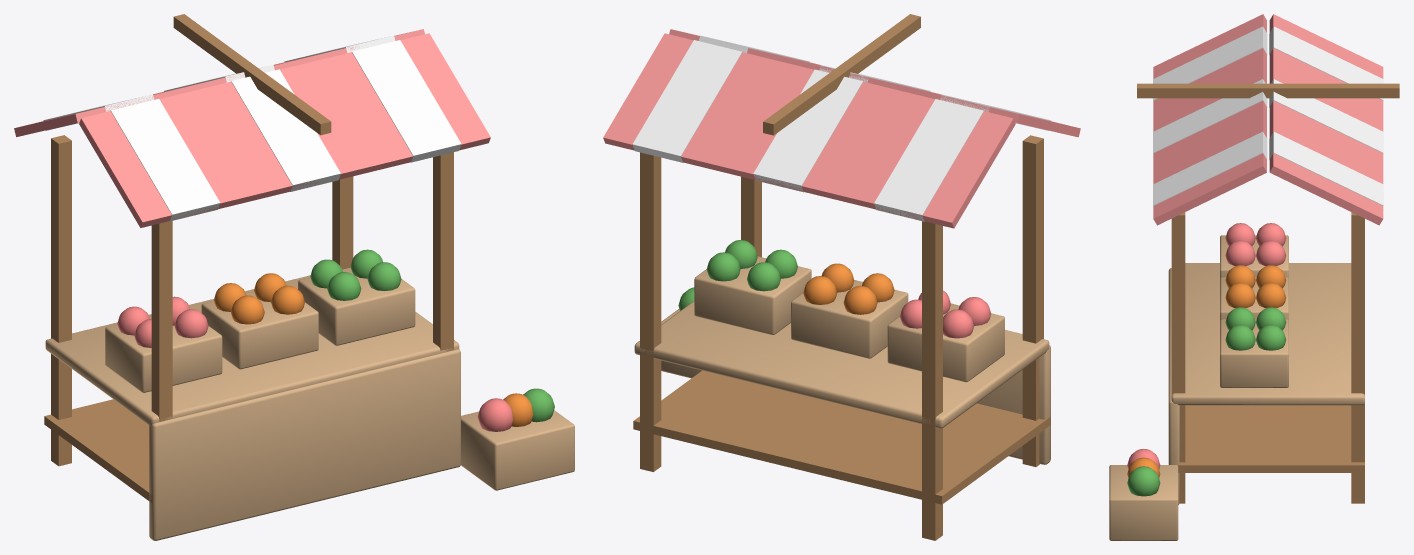
File: market_stall_red.glb
3 renders of one model, left to right at view 1: azimuth 30°, elevation 25°; view 2: azimuth 150°, elevation 25°; view 3: azimuth 270°, elevation 25°, orthographic. The views are drawn at different scales.
Parts seen in each view (by area): view 1: market_stall_red; view 2: market_stall_red; view 3: market_stall_red.
Part boxes in pixels (box(x1,y1,x2,y2)): market_stall_red: box(14, 14, 574, 540); market_stall_red: box(603, 14, 1080, 540); market_stall_red: box(1109, 14, 1399, 540).
Bounding box in the file's own units: 3.05 × 2.82 × 2.1.
